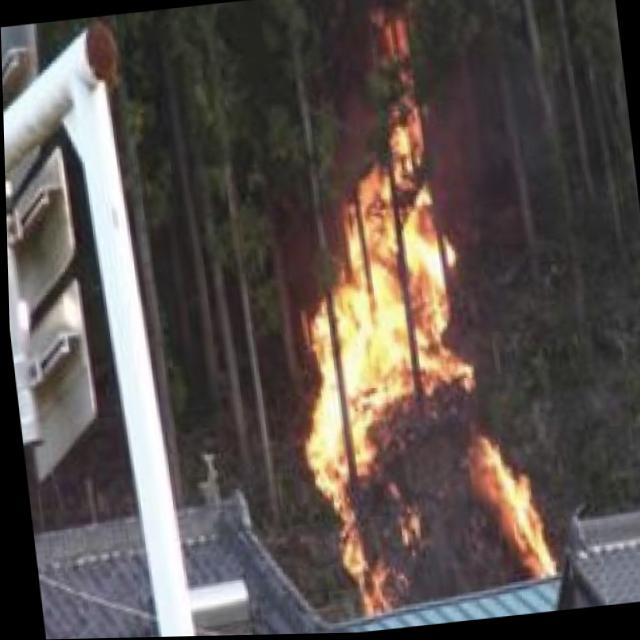Fire: (269, 81, 567, 627)
